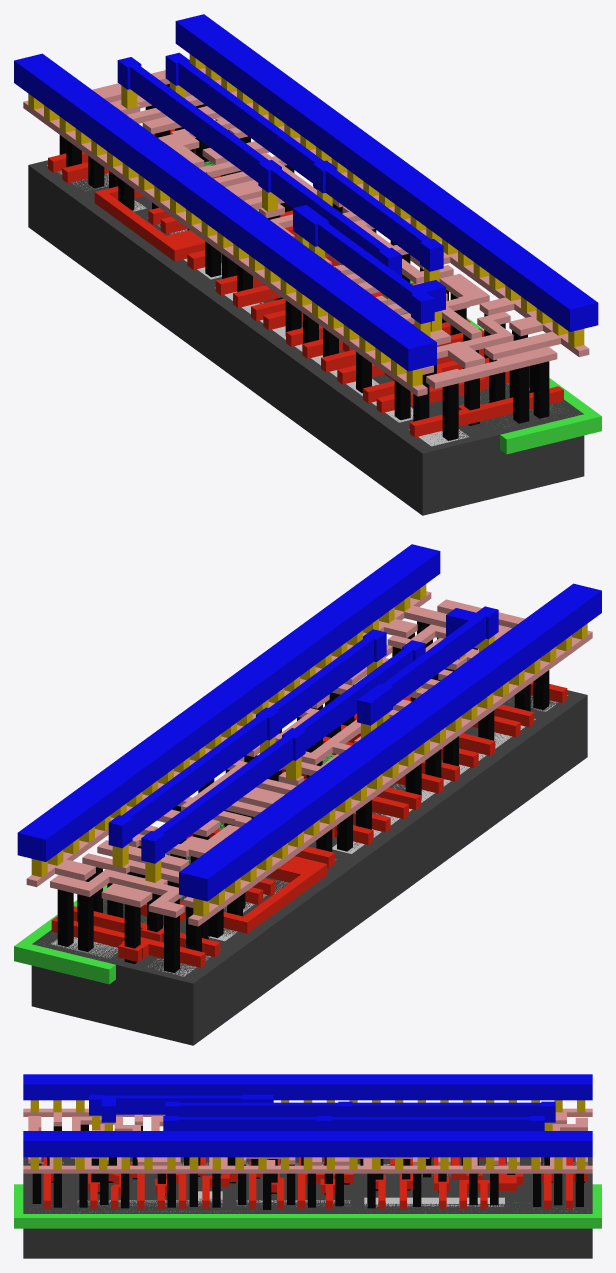
The model's file is sky130_fd_sc_hd__sdfrtp_1.obj.
The picture shows the model from 3 angles, top to bottom: view 1: azimuth 30°, elevation 25°; view 2: azimuth 150°, elevation 25°; view 3: azimuth 270°, elevation 25°; orthographic projection. The views are drawn at different scales.
Visible parts, largest first — view 1: metal1, subs, li, poly, licon, mcon, nwell, diff; view 2: metal1, subs, li, poly, licon, mcon, nwell, diff; view 3: metal1, subs, nwell, li, licon, poly, mcon, tap.
Part boxes in pixels (x1,y1,x2,y2): metal1: (14,14,598,371); subs: (28,153,584,515); li: (23,68,589,396); poly: (48,129,563,437); licon: (59,84,549,440); mcon: (28,54,584,386); nwell: (204,161,601,454); diff: (47,165,468,446); metal1: (17,544,601,901); subs: (31,690,587,1045); li: (26,591,592,926); poly: (51,682,567,967); licon: (57,621,549,972); mcon: (31,584,587,916); nwell: (14,754,334,984); diff: (148,695,567,976); metal1: (23,1074,592,1157); subs: (23,1157,592,1258); nwell: (14,1184,601,1228); li: (23,1108,592,1173); licon: (32,1124,584,1209); poly: (43,1157,587,1208); mcon: (30,1100,585,1169); tap: (77,1191,573,1208).
Bounding box in the file's own units: 3.2 × 2.74 × 11.88.
